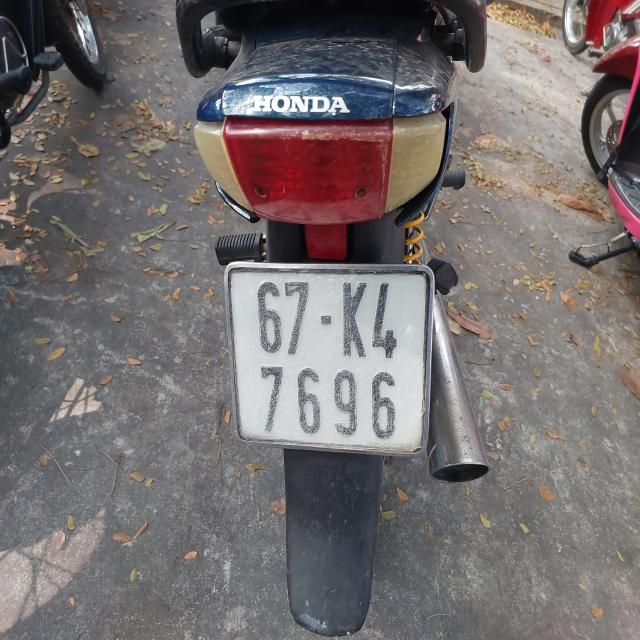4: (371, 281, 398, 359)
6: (257, 279, 283, 355), (371, 371, 396, 440), (298, 366, 321, 436)
7: (284, 281, 310, 356), (259, 362, 285, 434)
9: (332, 367, 358, 440)
K: (343, 280, 368, 360)
